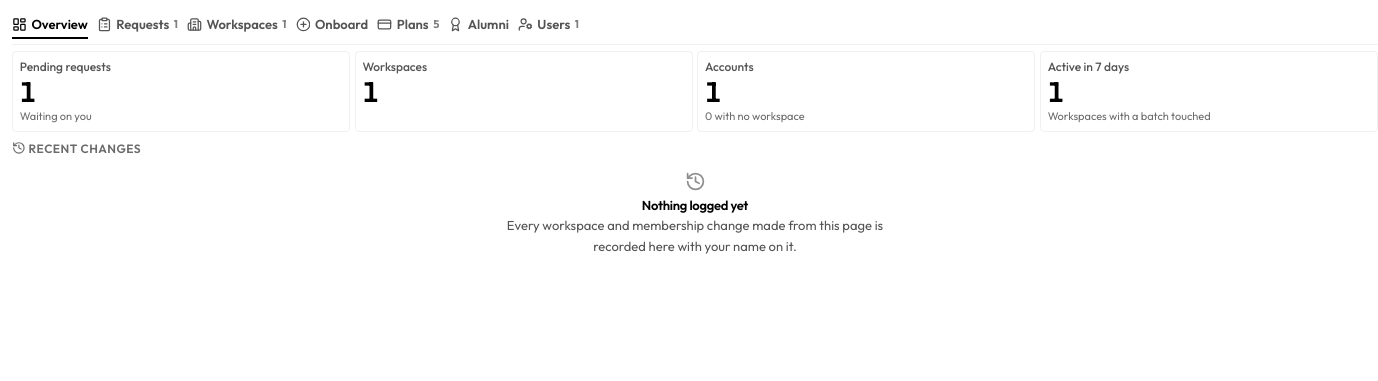
FounderConsole — plan history and alumni › the Alumni tab reads beta by default and flags a workspace that no longer exists
What coordinates should you click on to do the following:
click the tab "Alumni"
I would click on:
 (479, 26)
Its box is [448,12,509,39].
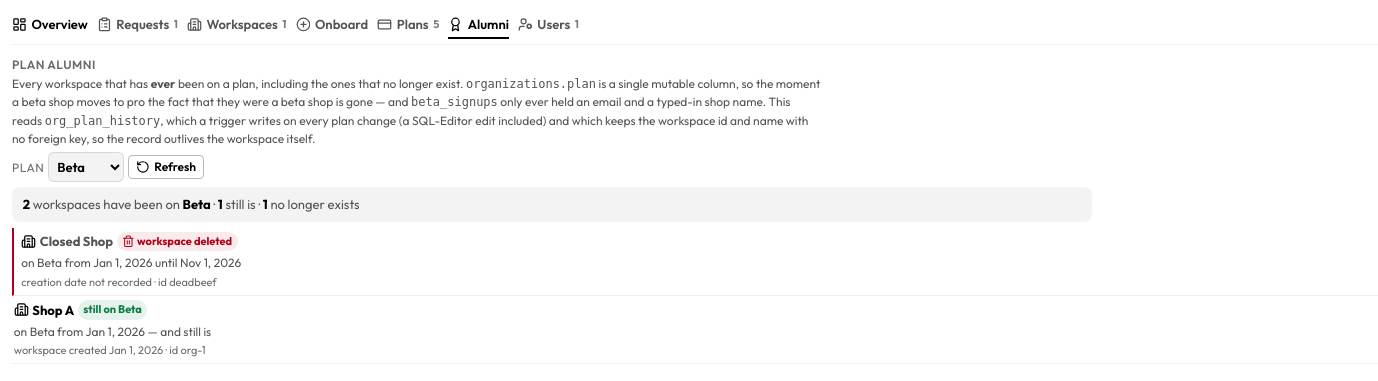
Expected: the text "2 workspaces have been on Beta" is shown, [12,187,1092,222]
Expected: the text "1 no longer exists" is shown, [12,187,1092,222]
Expected: the list item with class "fc-alumni-row--gone" shows "Closed Shop", [40,233,113,249]
